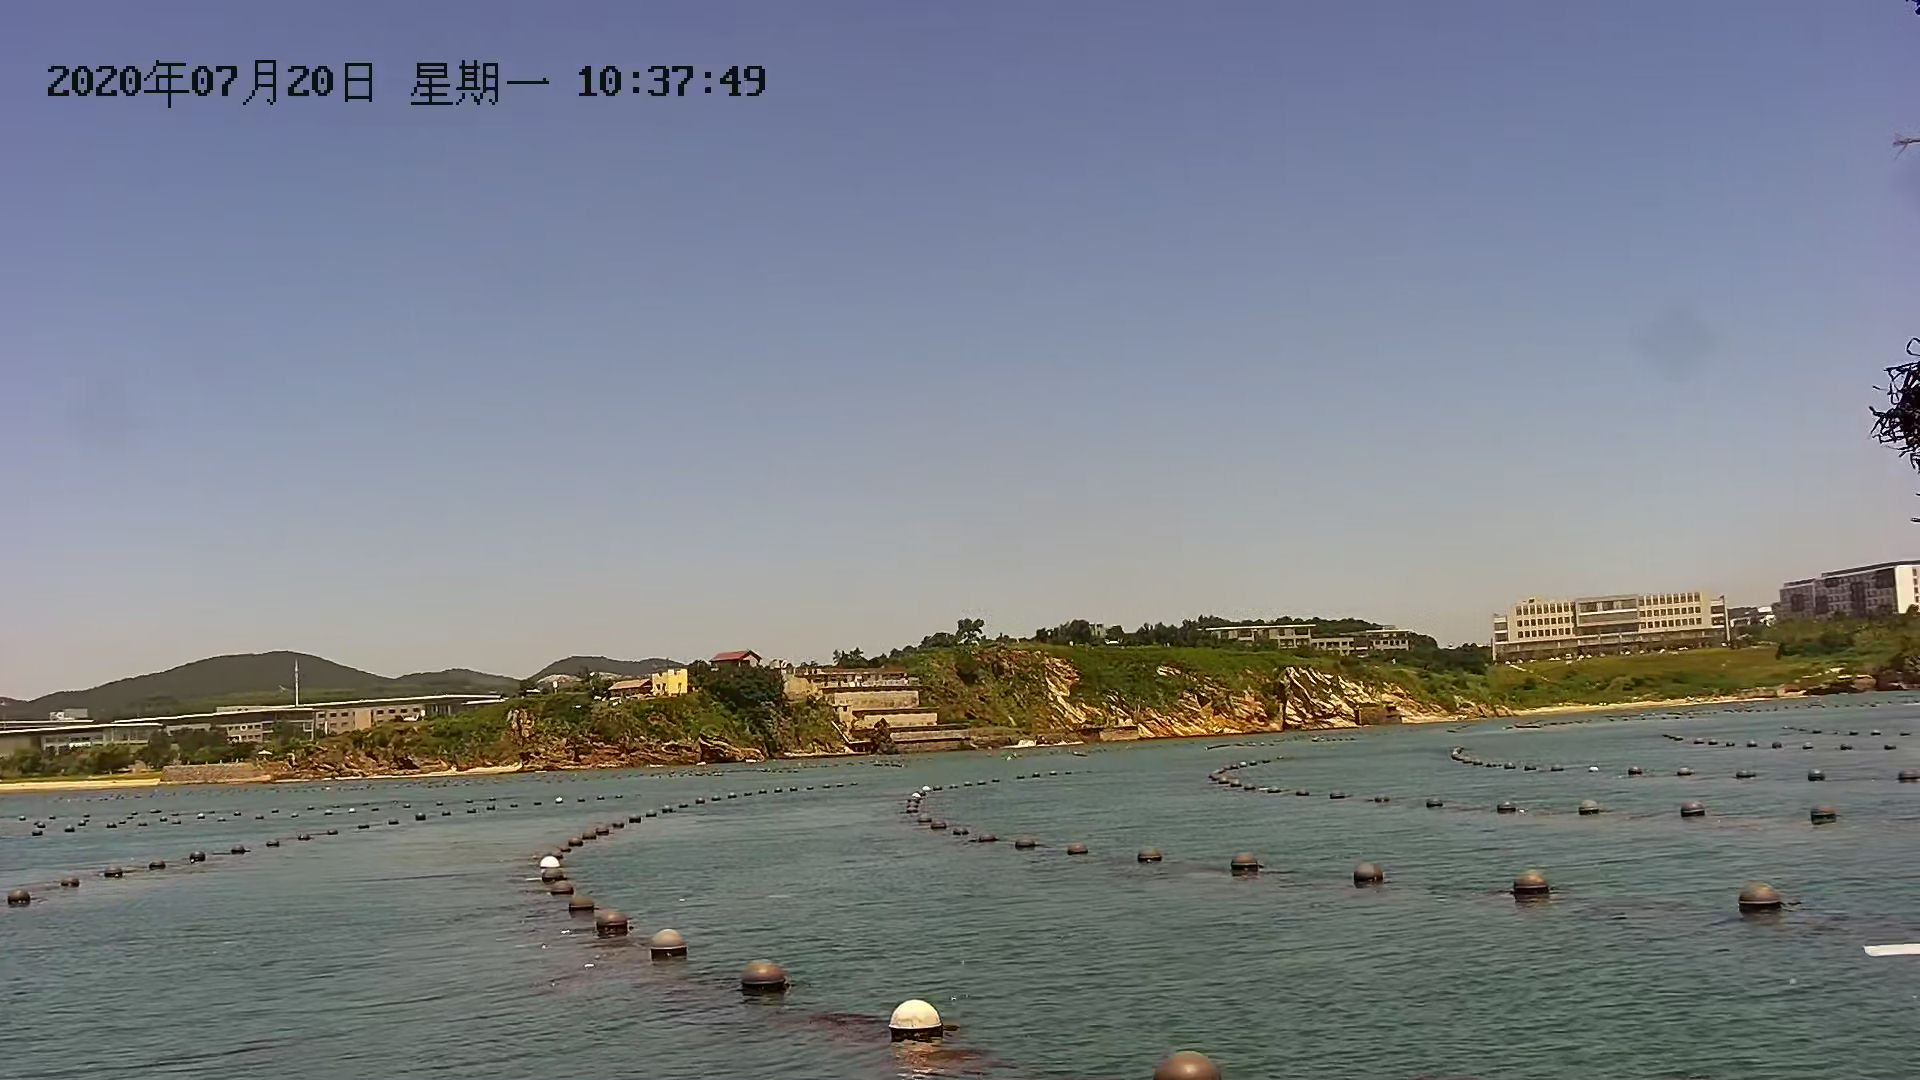ball: (885, 996, 953, 1050), (738, 953, 791, 1004), (1737, 880, 1787, 924), (1511, 869, 1557, 906), (647, 923, 690, 961), (589, 909, 636, 942), (1350, 858, 1391, 891), (1807, 803, 1845, 833), (1232, 849, 1267, 880), (1, 880, 36, 910), (568, 894, 603, 920), (1134, 843, 1167, 869), (1578, 793, 1605, 820), (1681, 798, 1706, 825), (1495, 796, 1523, 822), (100, 858, 125, 884)
